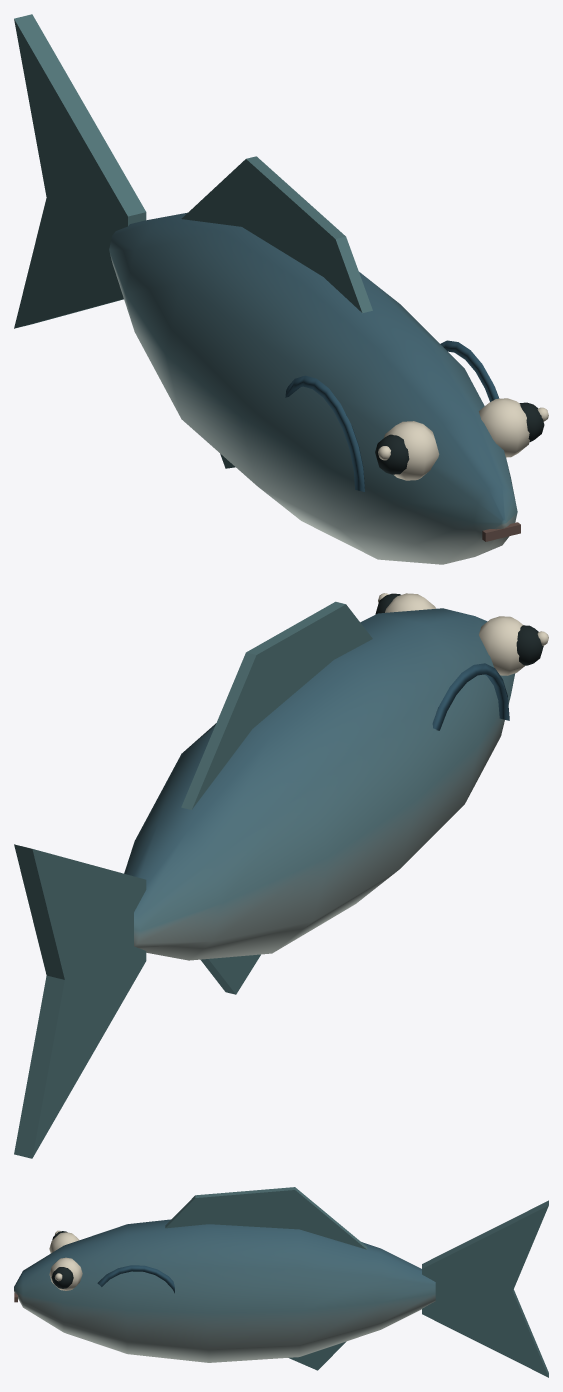
Rendered from komachi-horse-mackerel.glb.
The picture shows the model from 3 angles, top to bottom: view 1: azimuth 30°, elevation 25°; view 2: azimuth 150°, elevation 25°; view 3: azimuth 270°, elevation 25°; orthographic projection. The views are drawn at different scales.
Parts seen in each view (by area): view 1: Fish_Body, Fish_Tail_Fin; view 2: Fish_Body, Fish_Tail_Fin; view 3: Fish_Body, Fish_Tail_Fin.
Part boxes in pixels (x1,y1,x2,y2): Fish_Body: (109,156,548,564); Fish_Tail_Fin: (14,14,146,328); Fish_Body: (124,593,548,994); Fish_Tail_Fin: (14,844,146,1158); Fish_Body: (14,1187,435,1370); Fish_Tail_Fin: (422,1200,548,1377).
Size of the model in its own units: 0.0375 by 0.0683 by 0.177.
